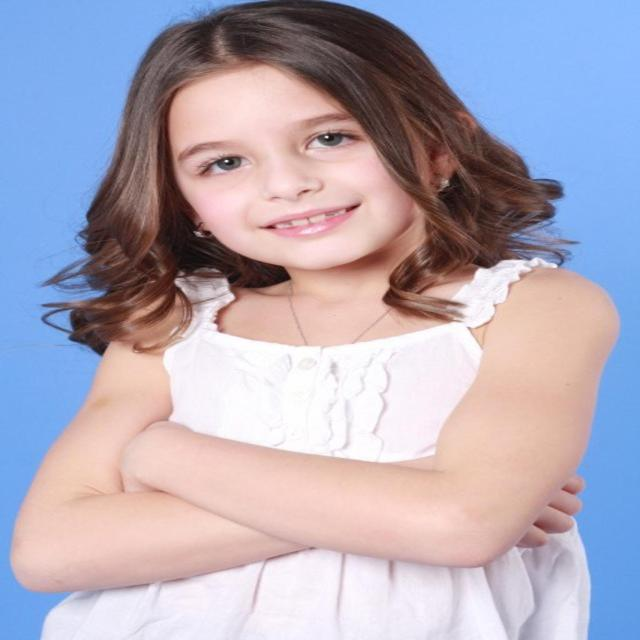Face: (149, 60, 427, 288)
